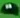black: (0, 0, 20, 18)
